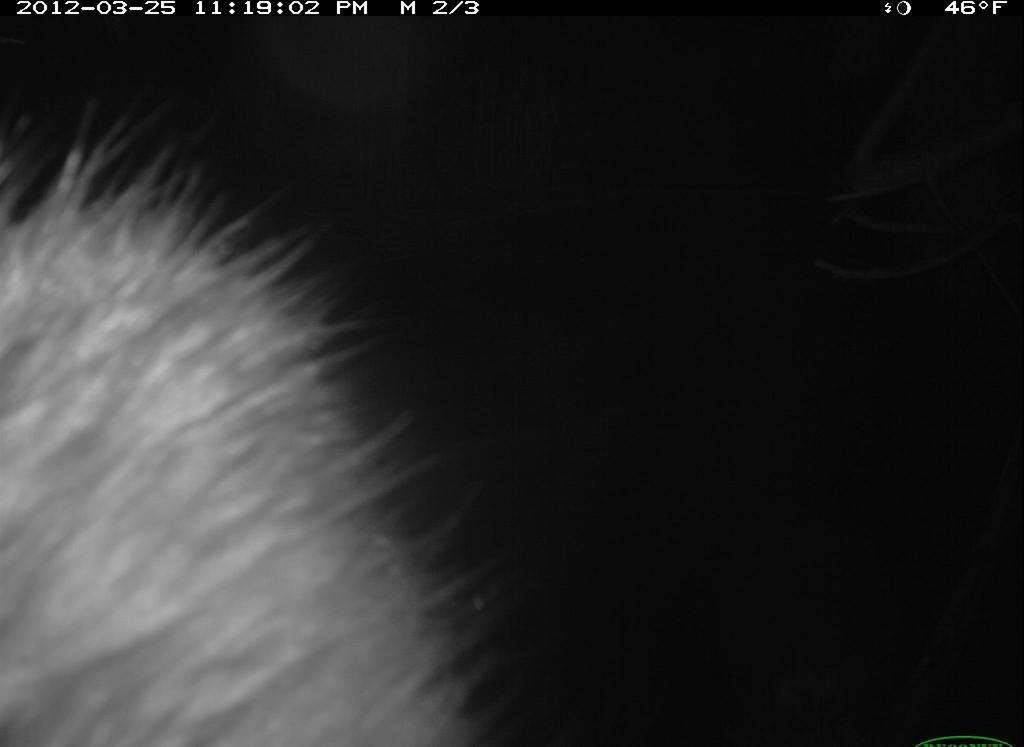raccoon: (1, 114, 518, 747)
